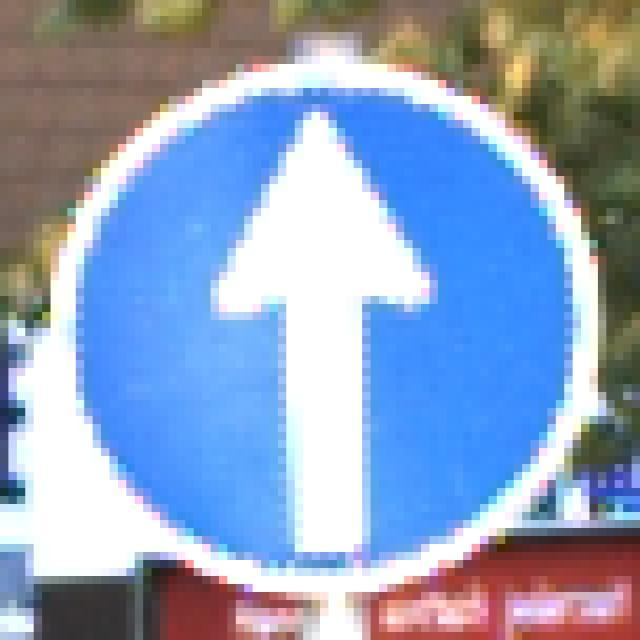compulsary ahead: (54, 62, 600, 590)
